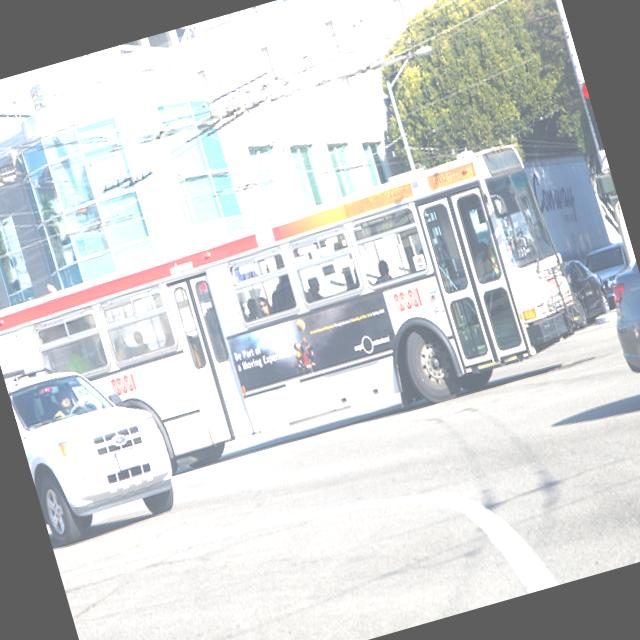Vehicle: (0, 137, 596, 513), (5, 345, 182, 549), (591, 231, 640, 415), (562, 253, 614, 329), (580, 242, 636, 302)
